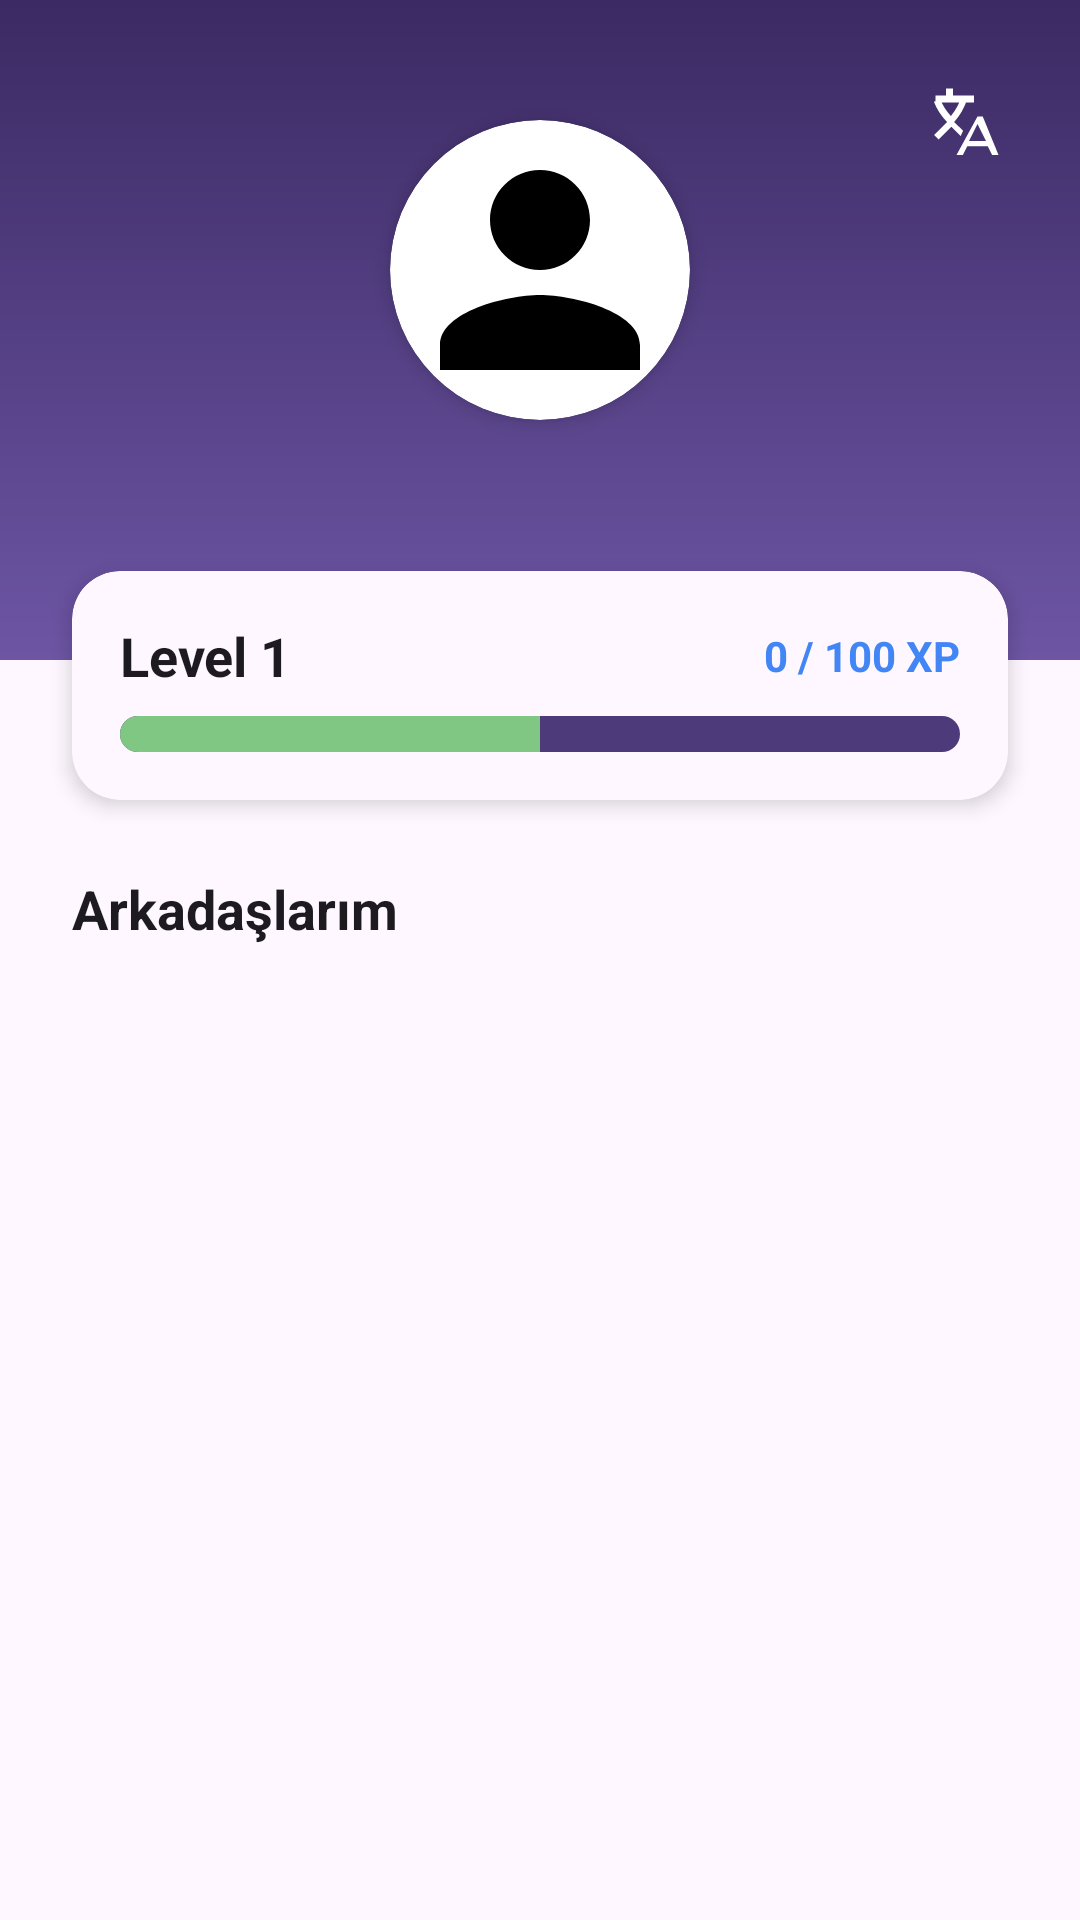

Screen size 1080 × 1920. Icon name, then its box in pixels as (x1, y1, x2, y2):
Dil Seçimi: (934, 88, 999, 155)
person: (390, 120, 690, 420)
